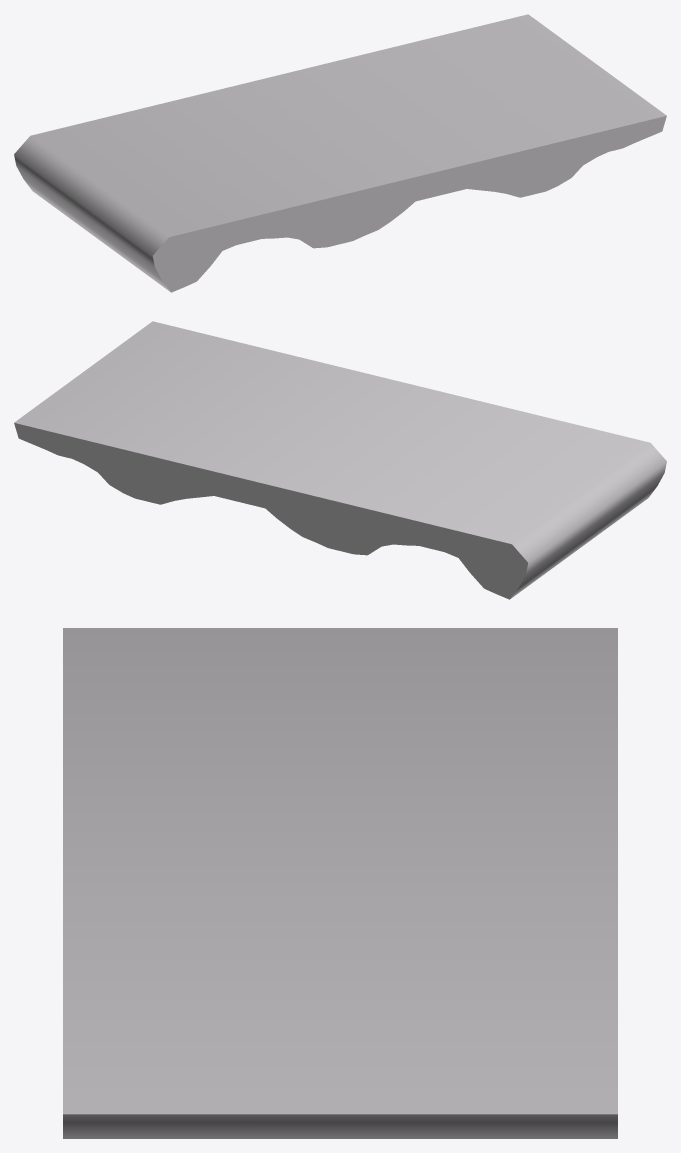
Rendered from Edge2.fbx.
The picture shows the model from 3 angles, top to bottom: view 1: azimuth 30°, elevation 25°; view 2: azimuth 150°, elevation 25°; view 3: azimuth 270°, elevation 25°; orthographic projection. The views are drawn at different scales.
Visible parts, largest first — view 1: root; view 2: root; view 3: root.
Boxes of the visible parts, x1,y1,x2,y2 form: root: [14, 14, 666, 292]; root: [14, 321, 666, 599]; root: [63, 628, 617, 1138].
Bounding box in the file's own units: 0.2141 × 0.0223 × 0.1.
1 material, 1 textured.
